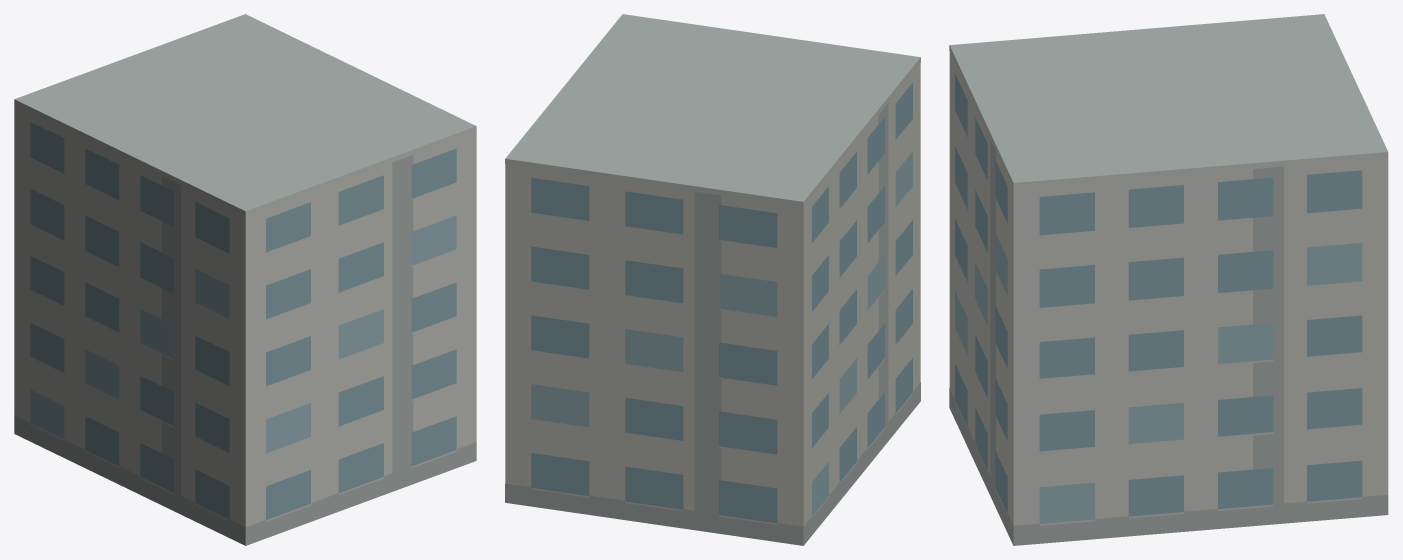
The model's file is residential-d56cc134-708e-4dfe-b0d6-0d431b948fb3.glb.
3 views of the same model, side by side, from view 1: azimuth 30°, elevation 25°; view 2: azimuth 150°, elevation 25°; view 3: azimuth 270°, elevation 25° (orthographic). The views are drawn at different scales.
Visible parts, largest first — view 1: residential-d56cc134-708e-4dfe-b0d6-0d431b948fb3.tmp; view 2: residential-d56cc134-708e-4dfe-b0d6-0d431b948fb3.tmp; view 3: residential-d56cc134-708e-4dfe-b0d6-0d431b948fb3.tmp.
Part boxes in pixels (box(x1,y1,x2,y2)): residential-d56cc134-708e-4dfe-b0d6-0d431b948fb3.tmp: box(14, 14, 476, 545); residential-d56cc134-708e-4dfe-b0d6-0d431b948fb3.tmp: box(505, 14, 920, 545); residential-d56cc134-708e-4dfe-b0d6-0d431b948fb3.tmp: box(949, 14, 1388, 545).
Size of the model in its own units: 15.24 by 15.25 by 16.72.
